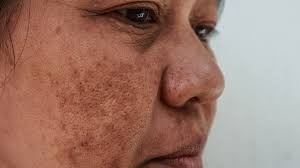Melasma: (36, 43, 198, 168)
